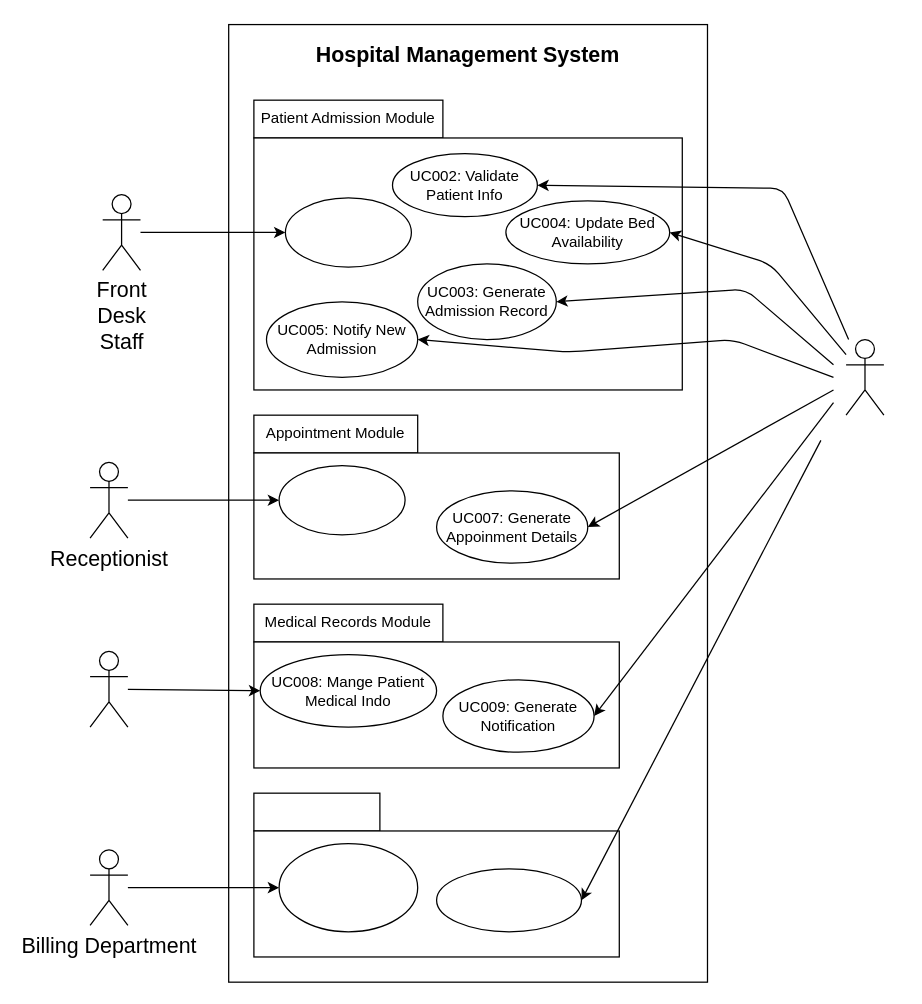
Some shapes in this 922 by 1004 pixel diagram are drawn without their labels. Here are the shapes that lost their labels. From the top down, the centre of each, then its label:
At point (347, 232): "UC001: Enter Patient Info".
At point (864, 376): "System".
At point (341, 499): "UC006: VIew Doctor Info".
At point (108, 688): "Medical Staff".
At point (316, 811): "Billing Module".
At point (348, 887): "UC010: Generate Bill Statement".
At point (508, 900): "UC011: Calculate Charges".
